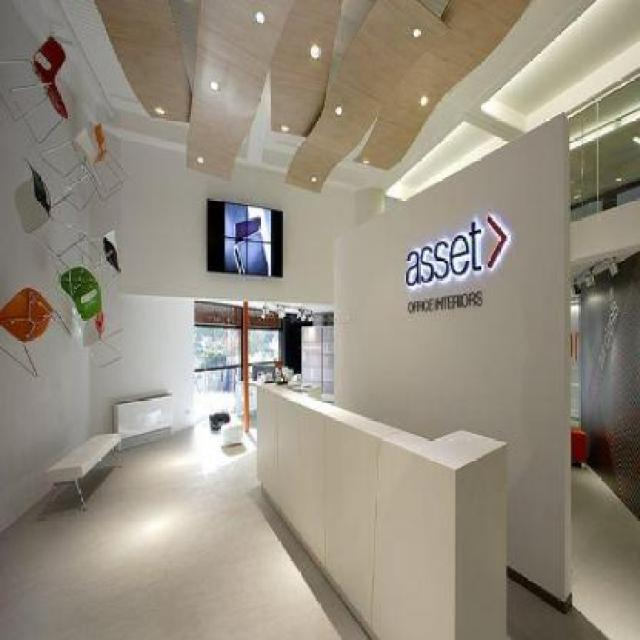frontdesk: (251, 355, 512, 640)
